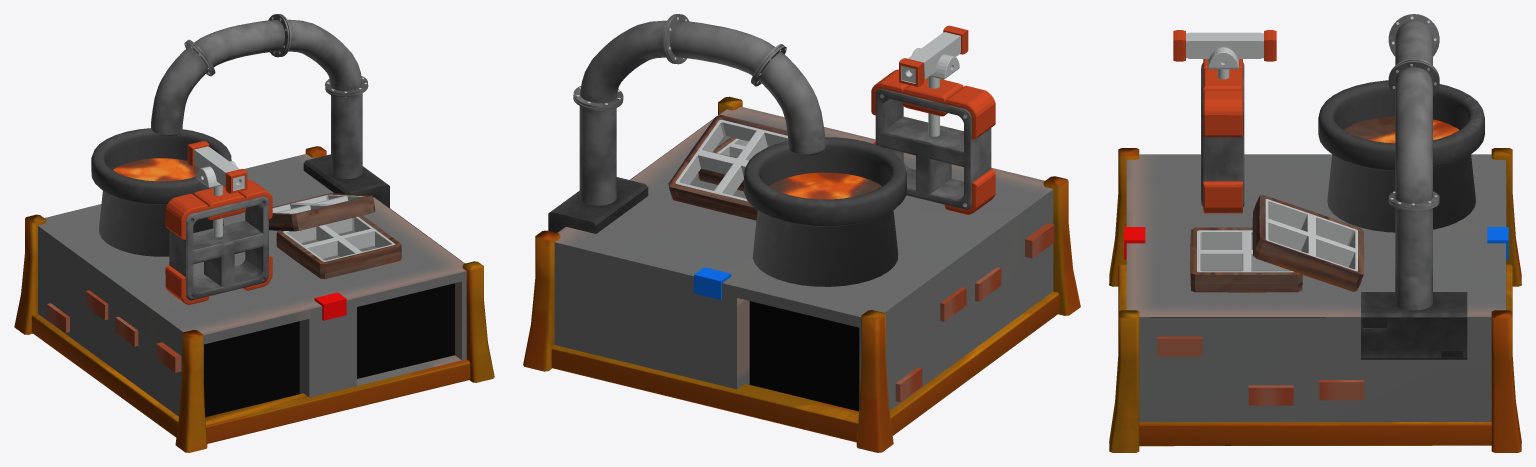
3 renders of one model, left to right at view 1: azimuth 30°, elevation 25°; view 2: azimuth 150°, elevation 25°; view 3: azimuth 270°, elevation 25°, orthographic. The views are drawn at different scales.
Visible parts, largest first — view 1: Cylinder.039_Baked; view 2: Cylinder.039_Baked; view 3: Cylinder.039_Baked.
Part boxes in pixels (bbox=[...]): Cylinder.039_Baked: bbox=[14, 14, 494, 452]; Cylinder.039_Baked: bbox=[523, 14, 1080, 452]; Cylinder.039_Baked: bbox=[1109, 14, 1521, 452].
Bounding box in the file's own units: 200 × 179 × 195.
1 material, 1 textured.
